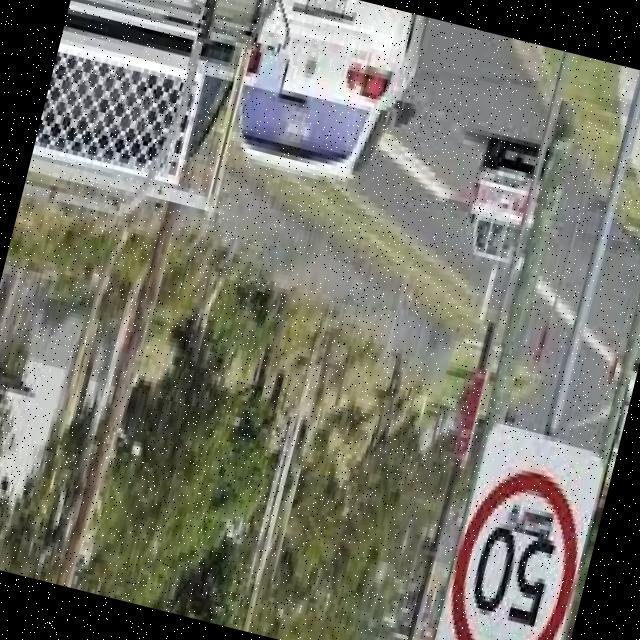speed_limit_50: (427, 457, 600, 640)
